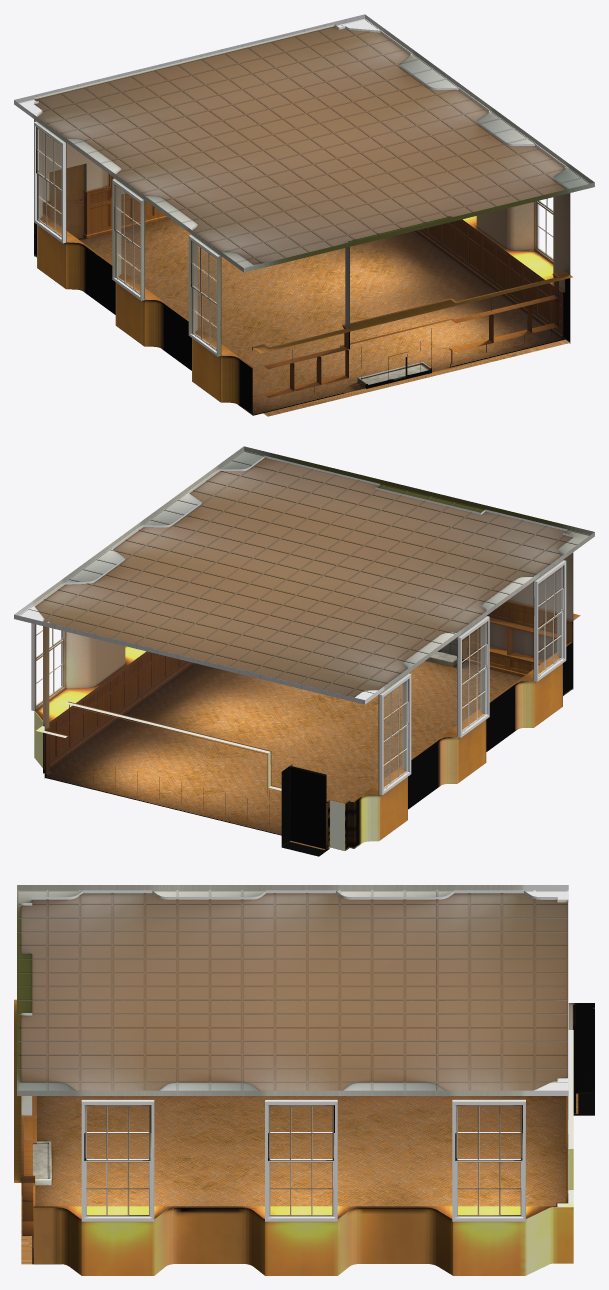
Rendered from VW_Opening_Baked.gltf.
The picture shows the model from 3 angles, top to bottom: view 1: azimuth 30°, elevation 25°; view 2: azimuth 150°, elevation 25°; view 3: azimuth 270°, elevation 25°; orthographic projection. The views are drawn at different scales.
Parts seen in each view (by area): view 1: virtual_well_ceiling, virtual_well_floor, virtual_well_wooden_panel, virtual_well_walls, virtual_well_glasses, virtual_well_window_frameboxes, virtual_well_window_frames, virtual_well_door, virtual_well_fireplace; view 2: virtual_well_ceiling, virtual_well_floor, virtual_well_wooden_panel, virtual_well_walls, virtual_well_window_frameboxes, virtual_well_glasses, virtual_well_door, virtual_well_window_frames; view 3: virtual_well_ceiling, virtual_well_floor, virtual_well_wooden_panel, virtual_well_window_frames, virtual_well_window_frameboxes, virtual_well_walls, virtual_well_fireplace.
Part boxes in pixels (x1,y1,x2,y2): virtual_well_ceiling: (14,14,594,272); virtual_well_floor: (35,219,569,416); virtual_well_wooden_panel: (34,174,572,414); virtual_well_walls: (34,24,570,357); virtual_well_glasses: (38,131,216,346); virtual_well_window_frameboxes: (34,121,553,356); virtual_well_window_frames: (36,127,553,350); virtual_well_door: (49,164,83,238); virtual_well_fireplace: (357,362,431,388); virtual_well_ceiling: (14,446,594,704); virtual_well_floor: (43,660,572,850); virtual_well_wooden_panel: (34,600,580,850); virtual_well_walls: (34,455,573,856); virtual_well_window_frameboxes: (31,560,566,795); virtual_well_glasses: (384,569,561,785); virtual_well_door: (290,766,326,849); virtual_well_window_frames: (36,565,563,789); virtual_well_ceiling: (17,885,568,1095); virtual_well_floor: (21,1093,578,1264); virtual_well_wooden_panel: (14,999,573,1275); virtual_well_window_frames: (84,1105,522,1216); virtual_well_window_frameboxes: (81,1099,525,1221); virtual_well_walls: (21,890,594,1115); virtual_well_fireplace: (33,1141,51,1185).
Size of the model in its own units: 9.7 by 4.14 by 11.57.
Materials: 14 (14 with a texture image).
